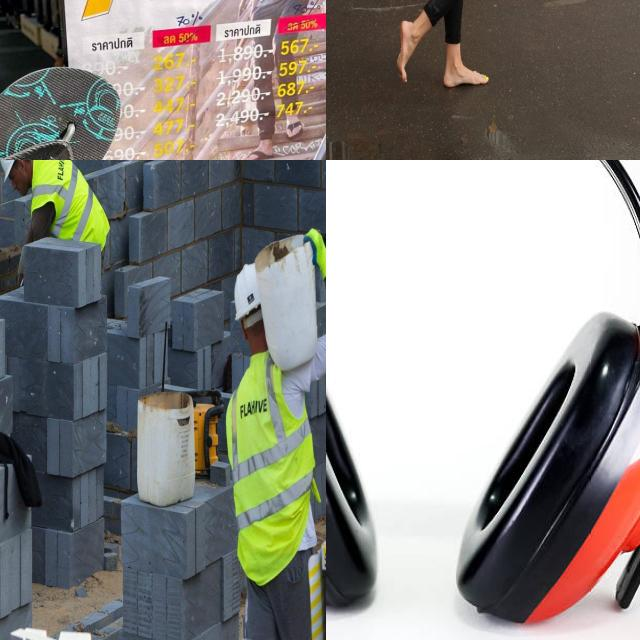Barefoots: (397, 20, 413, 83), (444, 66, 488, 88)
Ear-protection: (326, 160, 640, 625)
Sandals: (0, 59, 240, 160)
hand_glove: (302, 213, 326, 279)
head_helmet: (234, 260, 260, 322), (0, 160, 30, 183)
person: (227, 261, 323, 546), (0, 160, 111, 278)
vest: (225, 350, 316, 582), (31, 160, 108, 248)
